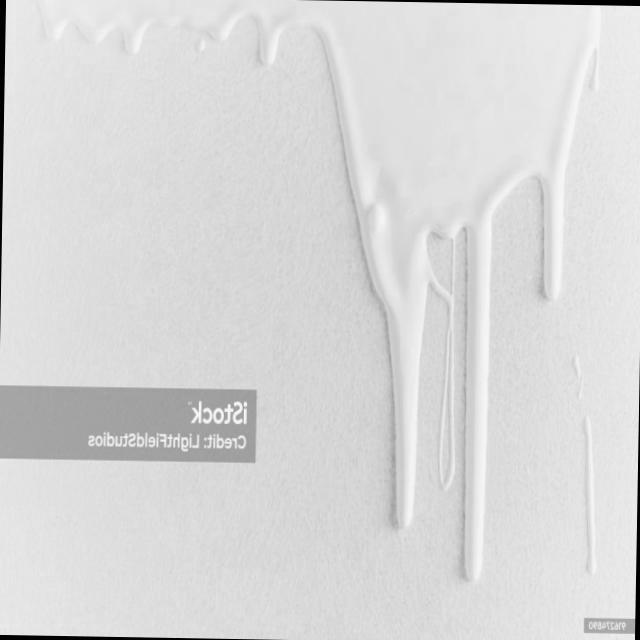paint drips: (316, 27, 602, 604), (21, 0, 292, 104)
